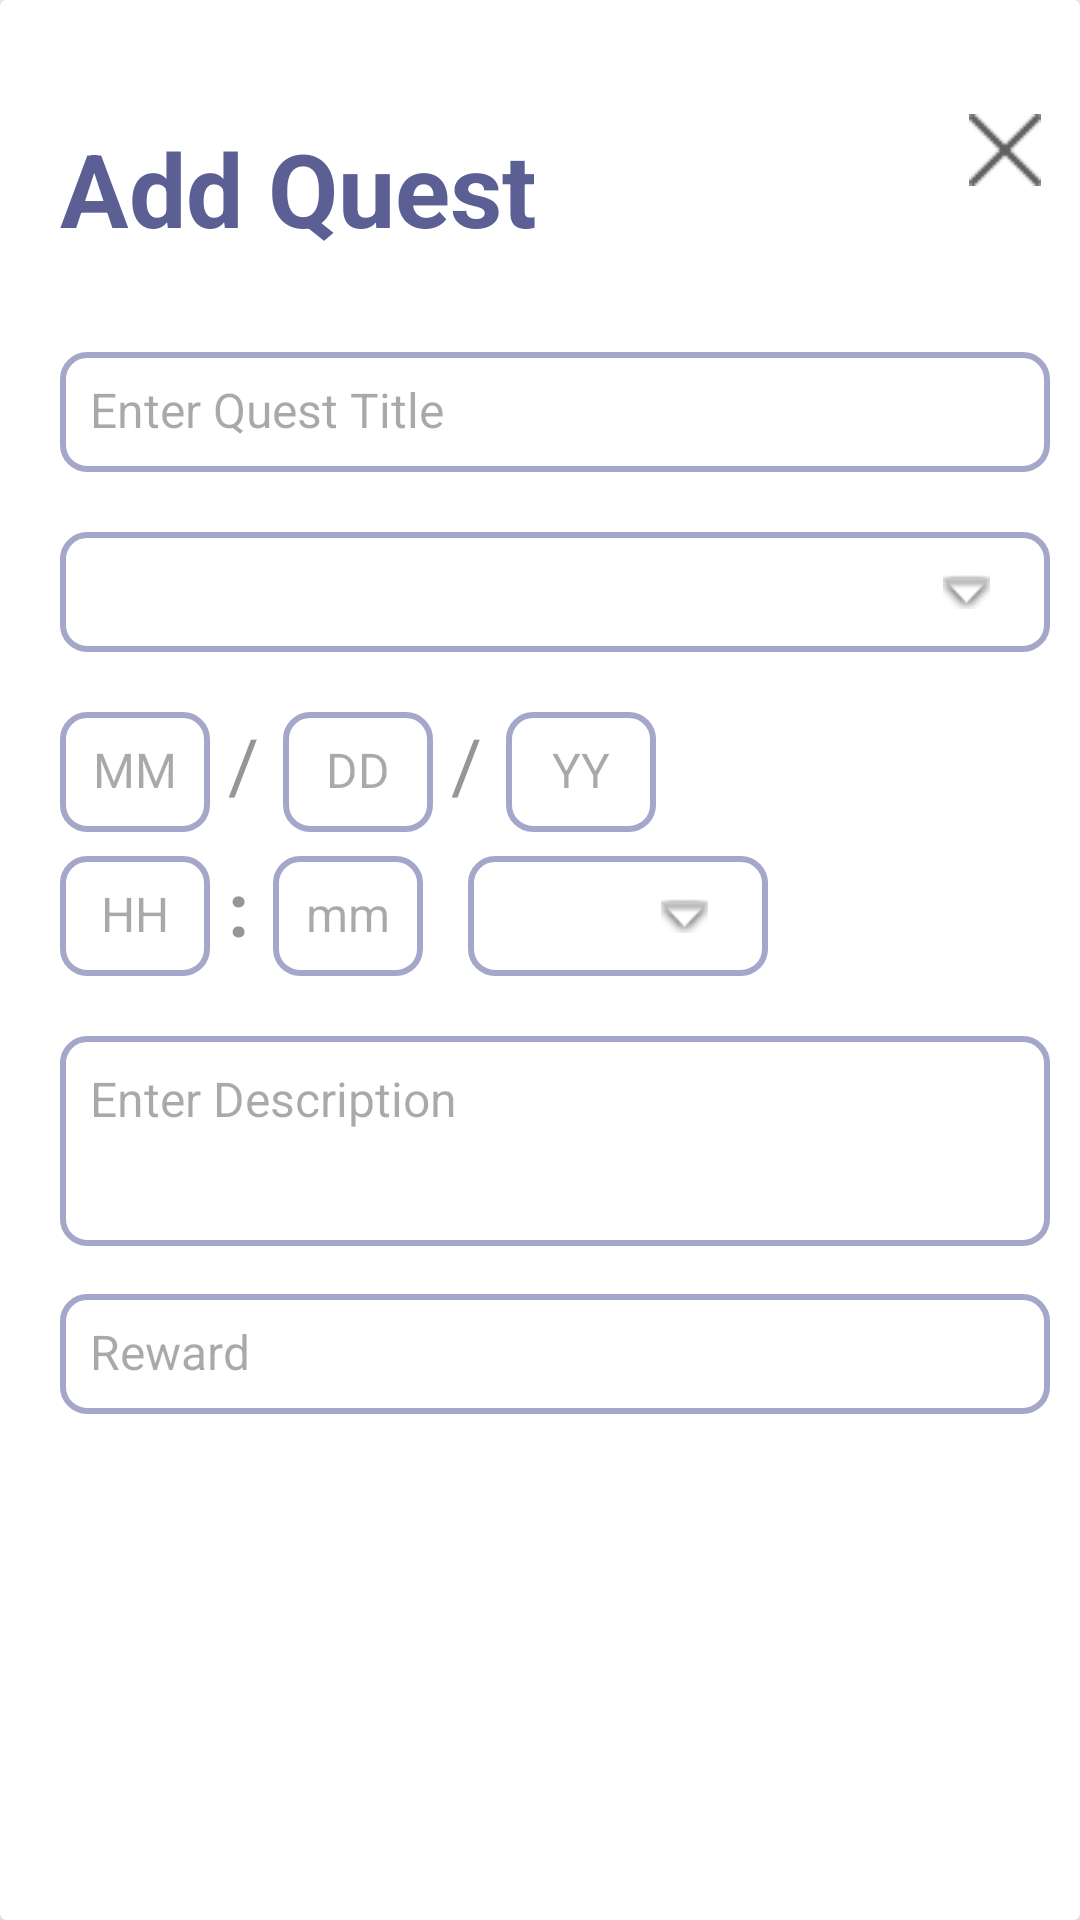

Screen size 1080px x 1920px. Icon name, then its box in pixels as (left=x1, top=y1, right=x2, bottom=y2):
Close the dialog: (left=969, top=114, right=1041, bottom=186)
